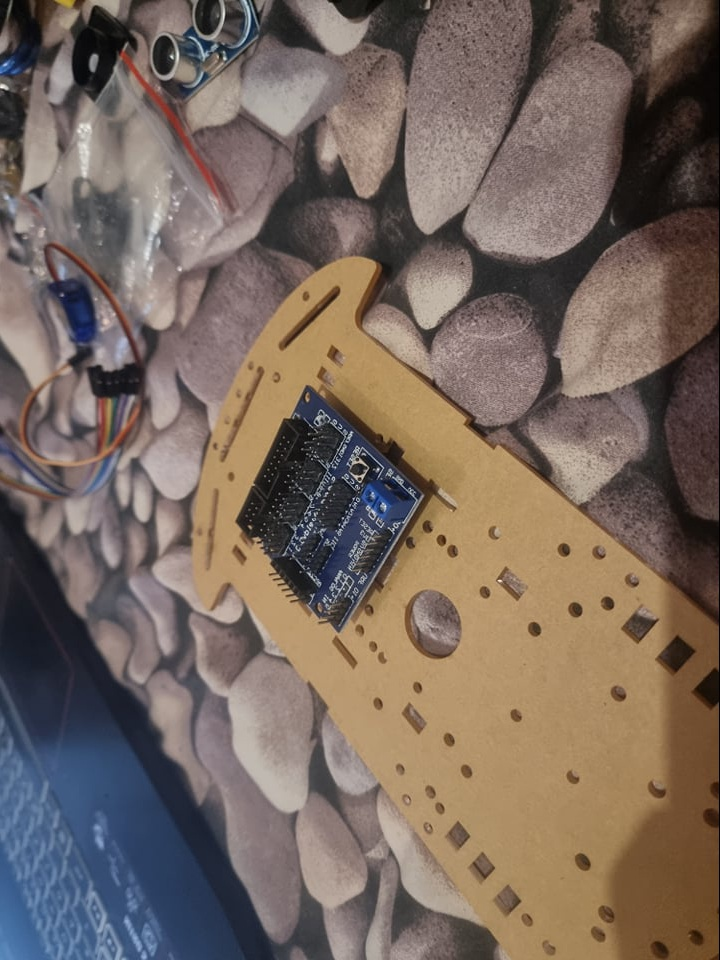5V EXPANSION: (233, 386, 427, 633)
SENSOR: (154, 1, 264, 99)
